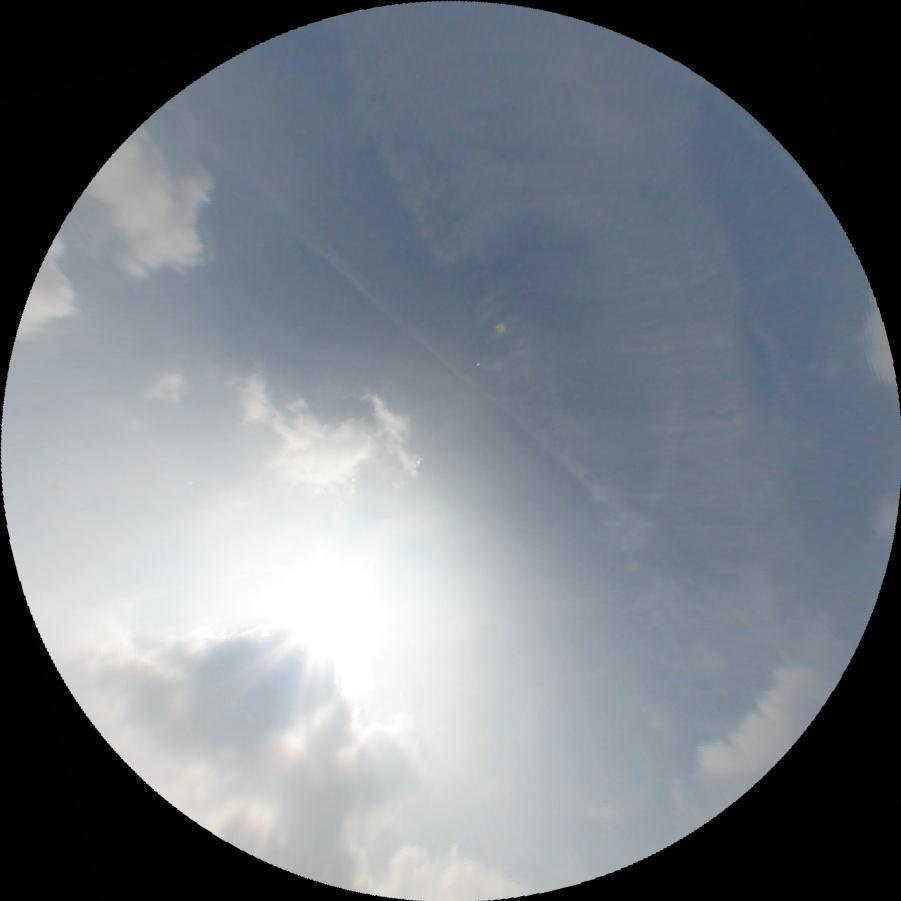contrail veryold: (245, 177, 638, 525)
sun: (228, 536, 434, 725)
